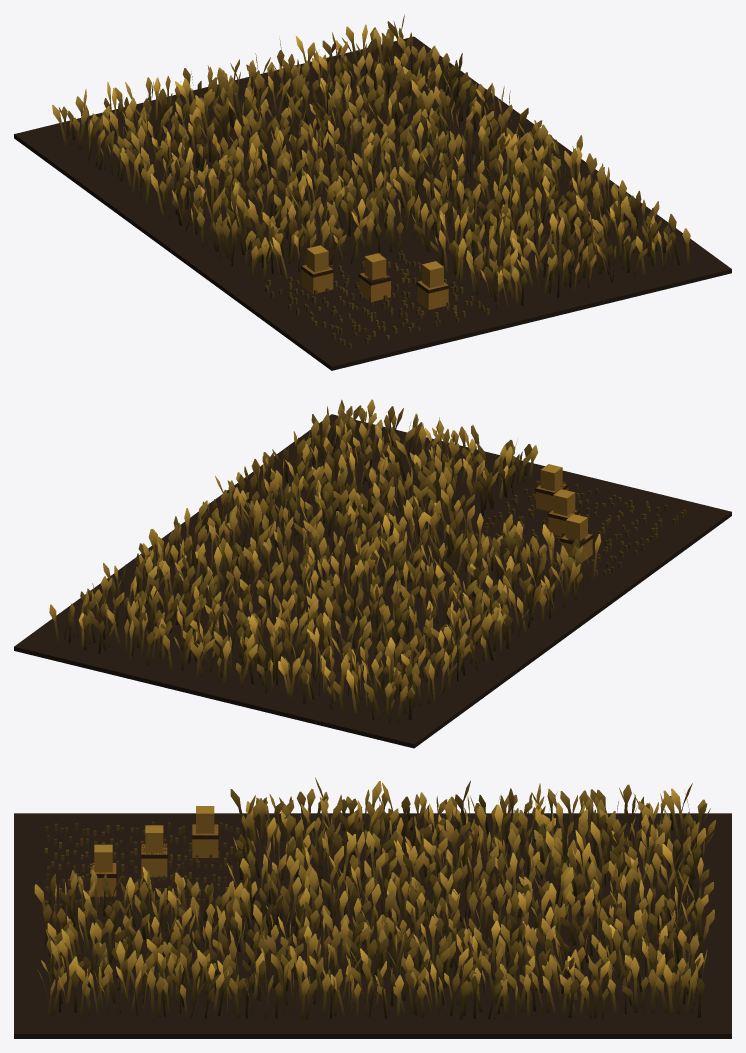
Rendered from WheatField.glb.
3 renders of one model, top to bottom at view 1: azimuth 30°, elevation 25°; view 2: azimuth 150°, elevation 25°; view 3: azimuth 270°, elevation 25°, orthographic. The views are drawn at different scales.
Parts seen in each view (by area): view 1: WheatField; view 2: WheatField; view 3: WheatField.
Part boxes in pixels (box(x1,y1,x2,y2)): WheatField: box(14, 14, 731, 370); WheatField: box(14, 399, 731, 748); WheatField: box(14, 777, 731, 1038).
Size of the model in its own units: 8 by 0.8624 by 11.
